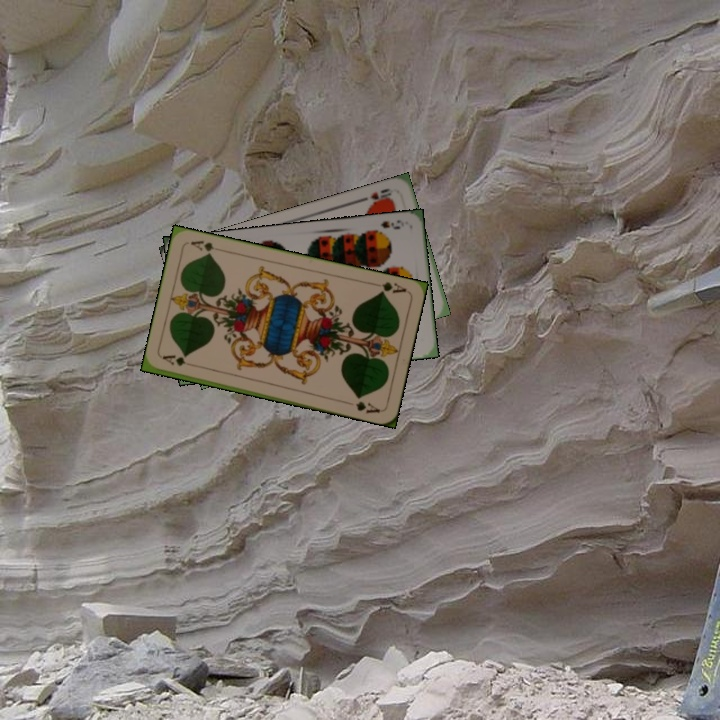GA: (376, 278, 409, 296), (159, 351, 188, 368)
HO: (357, 184, 395, 208)
S9: (367, 217, 403, 237)
